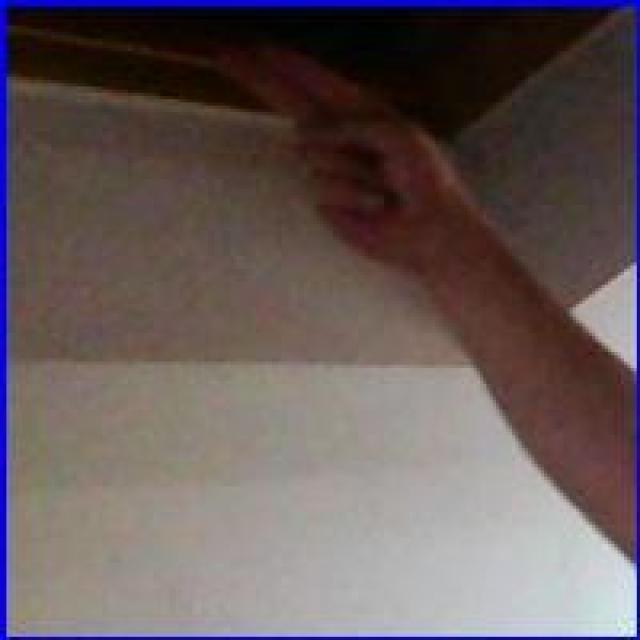H: (208, 30, 470, 284)
